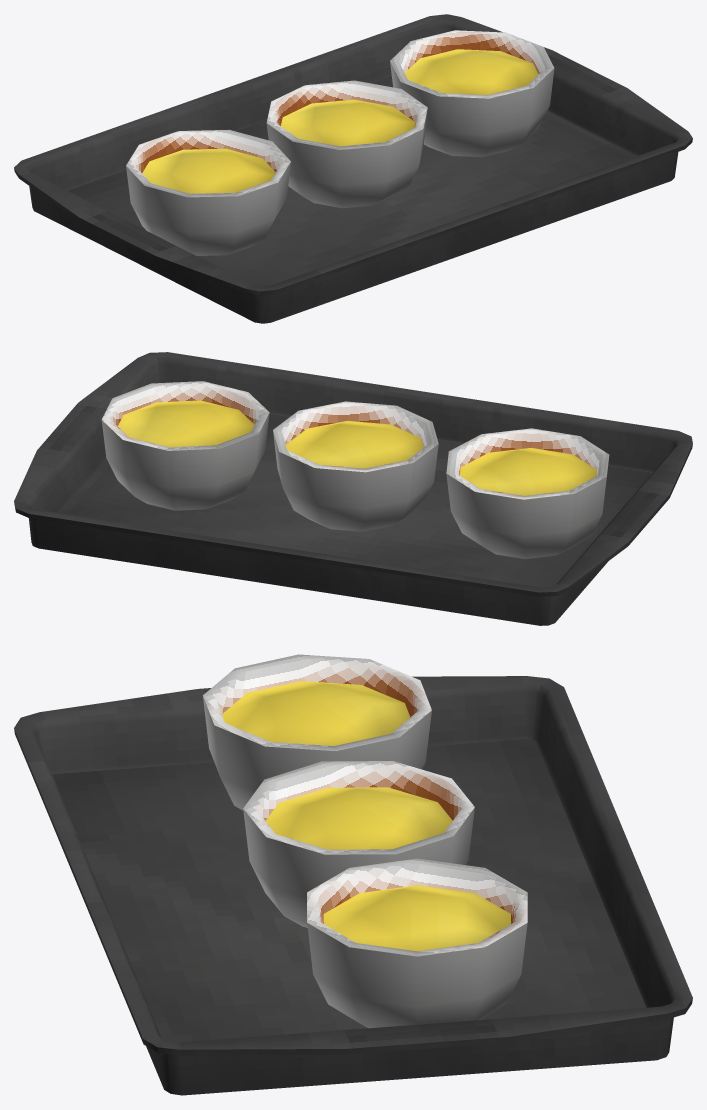
Rendered from BakingTrayCremeBrulee.fbx.
The picture shows the model from 3 angles, top to bottom: view 1: azimuth 30°, elevation 25°; view 2: azimuth 150°, elevation 25°; view 3: azimuth 270°, elevation 25°; orthographic projection. The views are drawn at different scales.
Visible parts, largest first — view 1: TrayCremeBrulee; view 2: TrayCremeBrulee; view 3: TrayCremeBrulee.
Part boxes in pixels (x1,y1,x2,y2): TrayCremeBrulee: [14, 14, 692, 323]; TrayCremeBrulee: [14, 352, 692, 625]; TrayCremeBrulee: [14, 654, 692, 1095].
Bounding box in the file's own units: 105 × 14.54 × 80.46.
